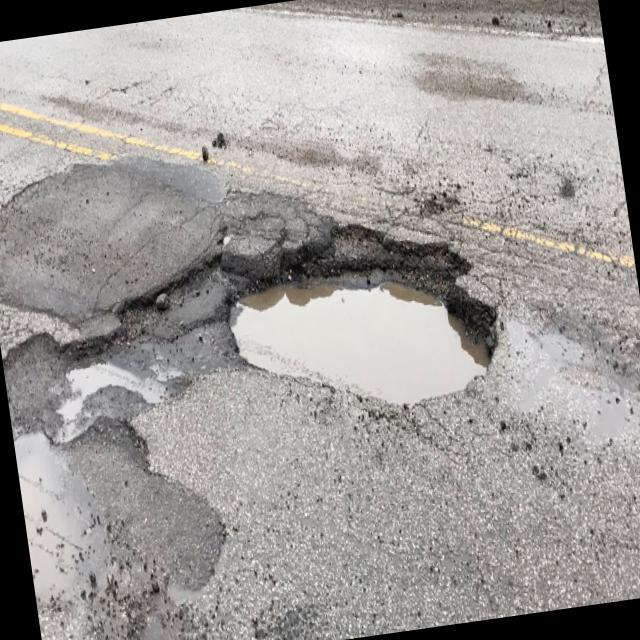Potholes: (204, 158, 561, 522), (0, 250, 265, 445)
